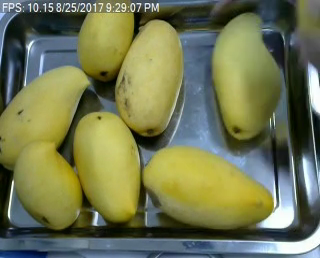Mango: (142, 146, 274, 230), (210, 11, 284, 141), (0, 65, 89, 171), (113, 19, 184, 136), (73, 110, 142, 221), (14, 141, 82, 230), (77, 0, 133, 82)
